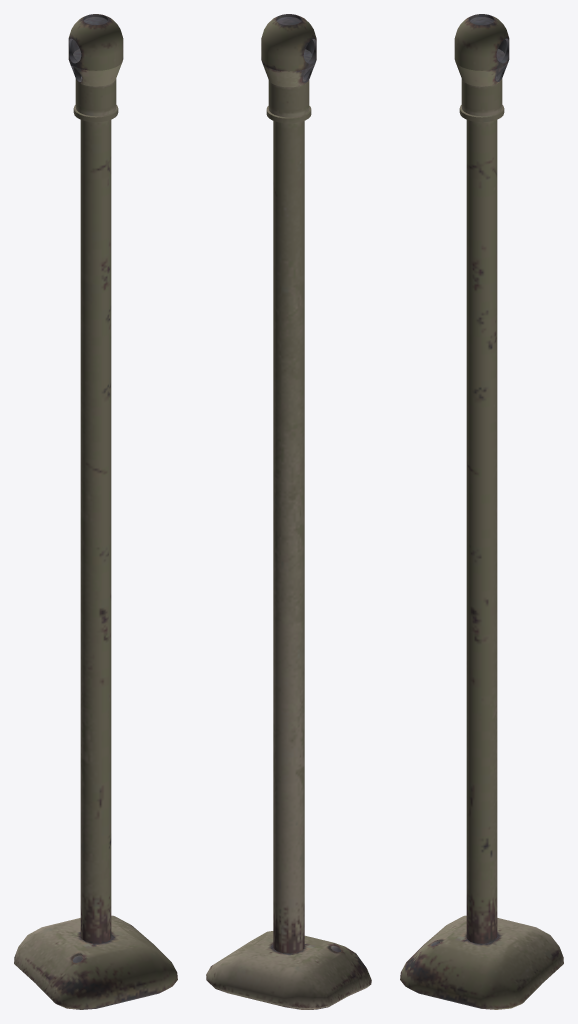
The model's file is Gun_04.glb.
3 renders of one model, left to right at view 1: azimuth 30°, elevation 25°; view 2: azimuth 150°, elevation 25°; view 3: azimuth 330°, elevation 25°, orthographic.
Visible parts, largest first — view 1: set_0_group_0; view 2: set_0_group_0; view 3: set_0_group_0.
Part boxes in pixels (left/top/right/bottom): set_0_group_0: left=14, top=14, right=177, bottom=1009; set_0_group_0: left=206, top=14, right=371, bottom=1009; set_0_group_0: left=400, top=14, right=563, bottom=1009.
Size of the model in its own units: 0.4653 by 3.46 by 0.4418.
1 material, 1 textured.
